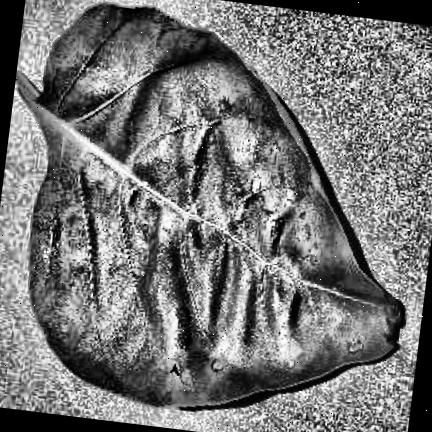leaf: (15, 1, 400, 403)
